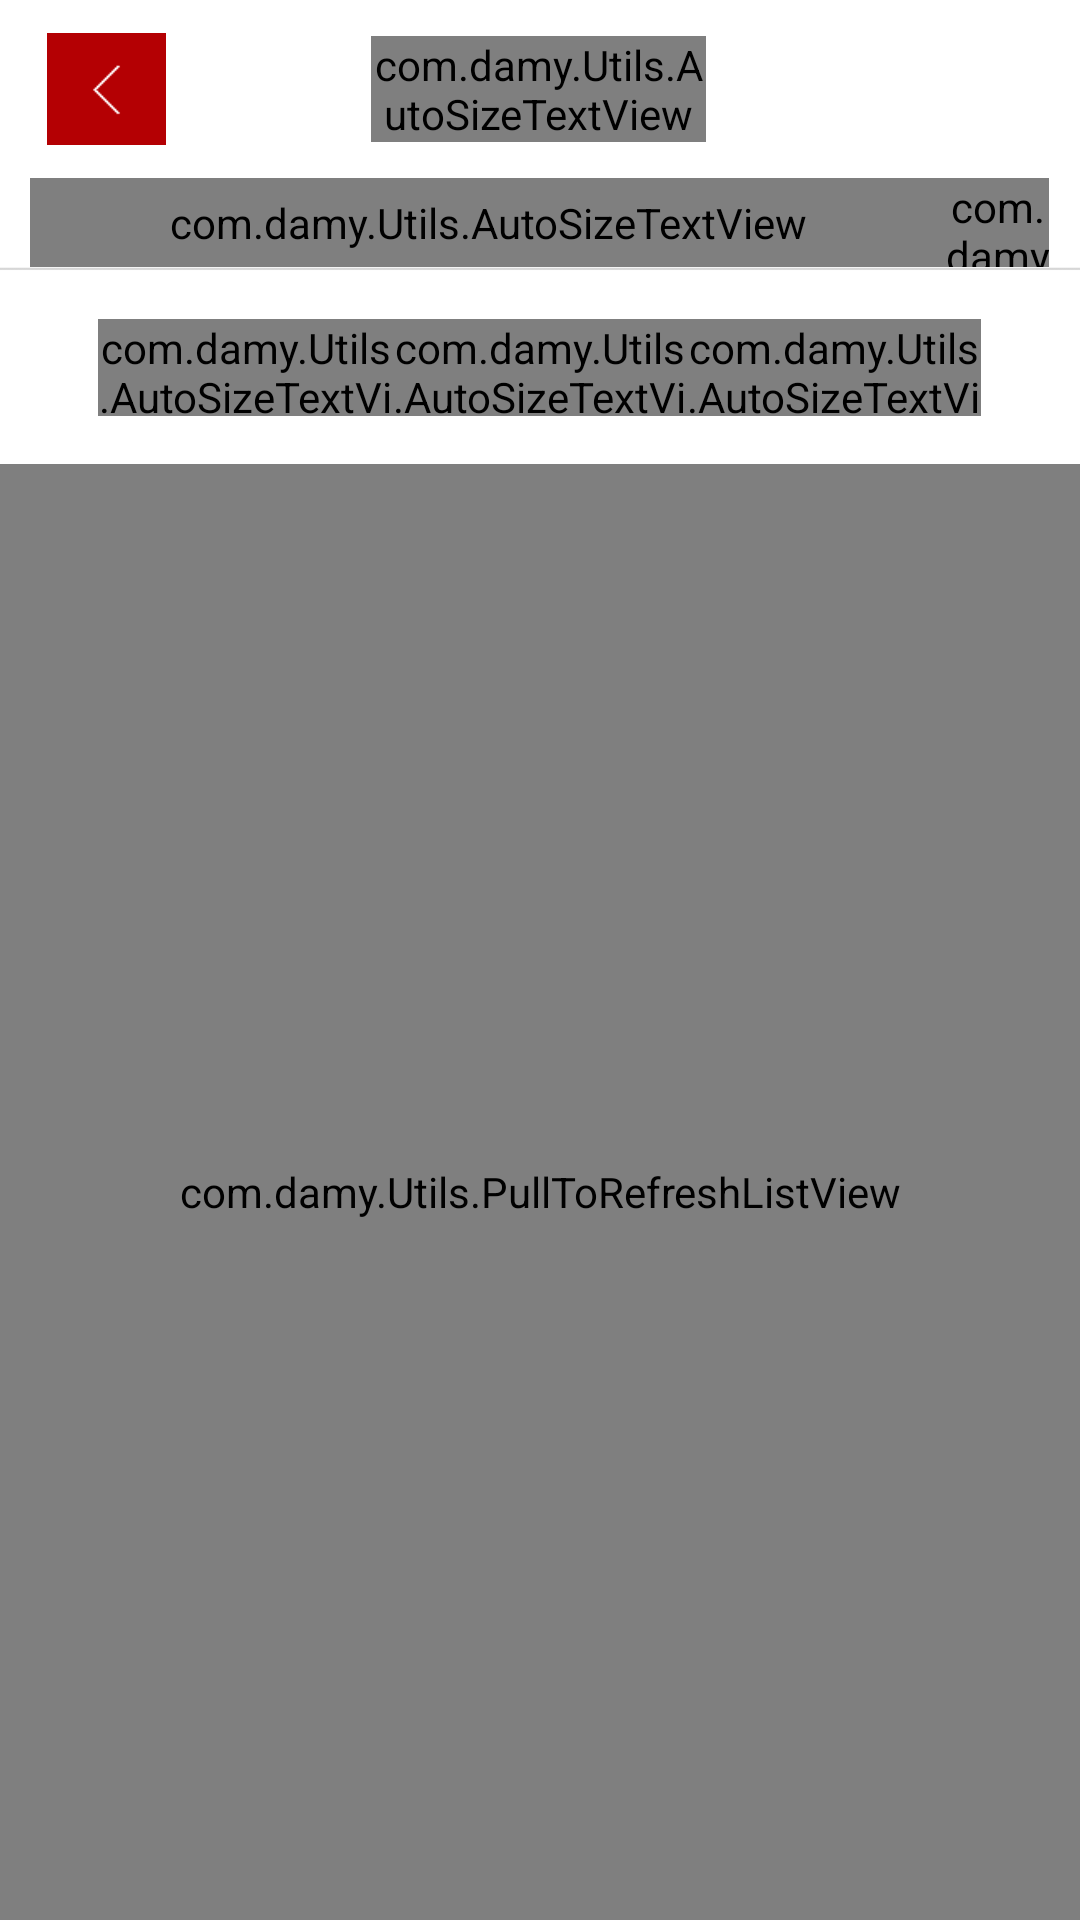

Icon bounding boxes for this 1080px×1920px phone screenshot, format (x1, y1, x2, y2):
navigate topleft: (47, 33, 166, 145)
